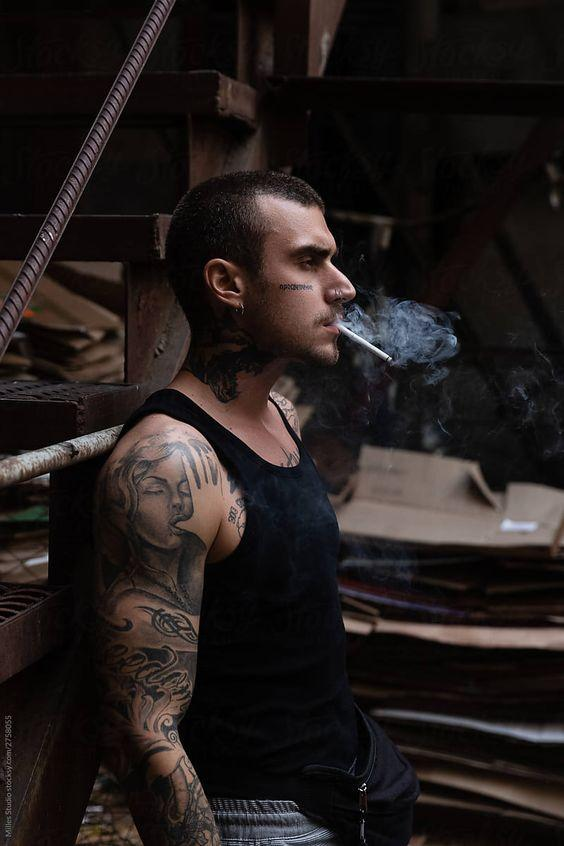cigarette: (330, 321, 393, 362)
